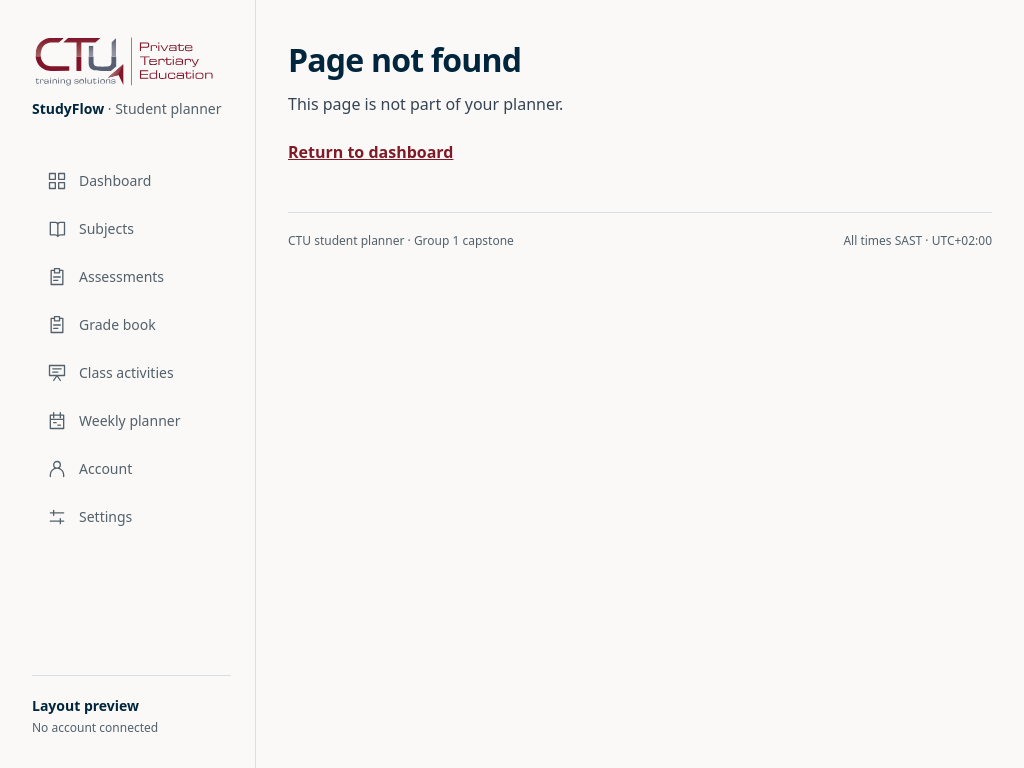
Test: shared starter navigation › handles an unknown deep link and offers a working route back
Check: the heading "Page not found" is shown, box [288,38,521,81]
Click the link "Return to dashboard": coordinates (371, 152) [288,140,454,164]
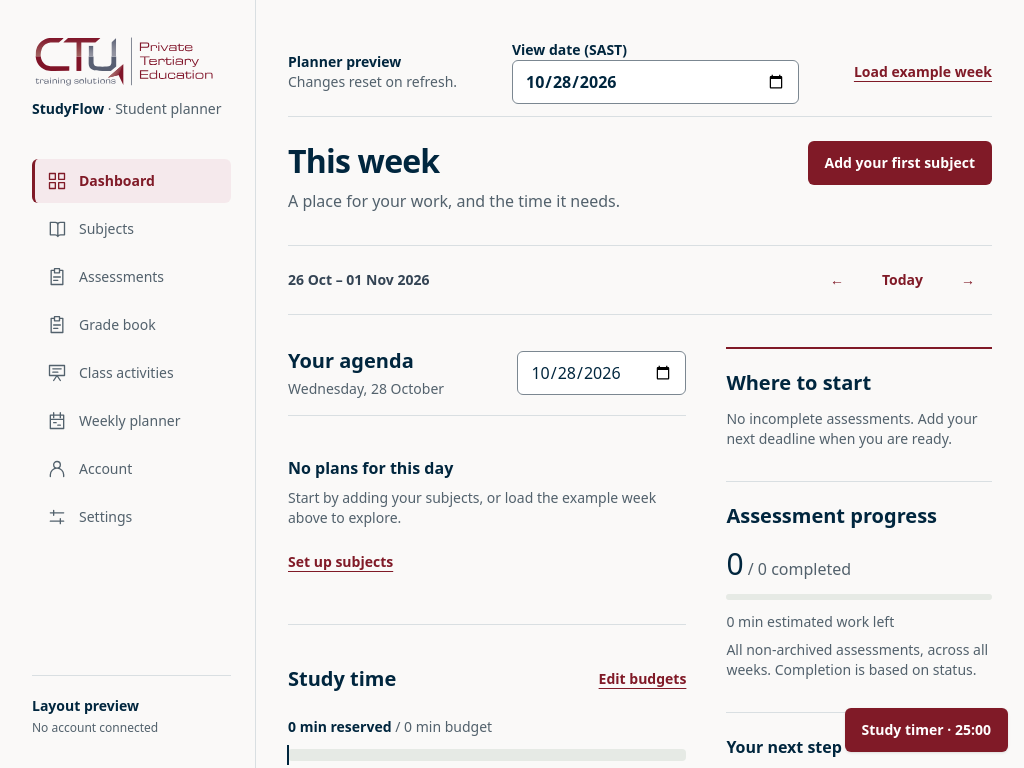
Check: the heading "This week" is shown, box [288,139,439,182]
